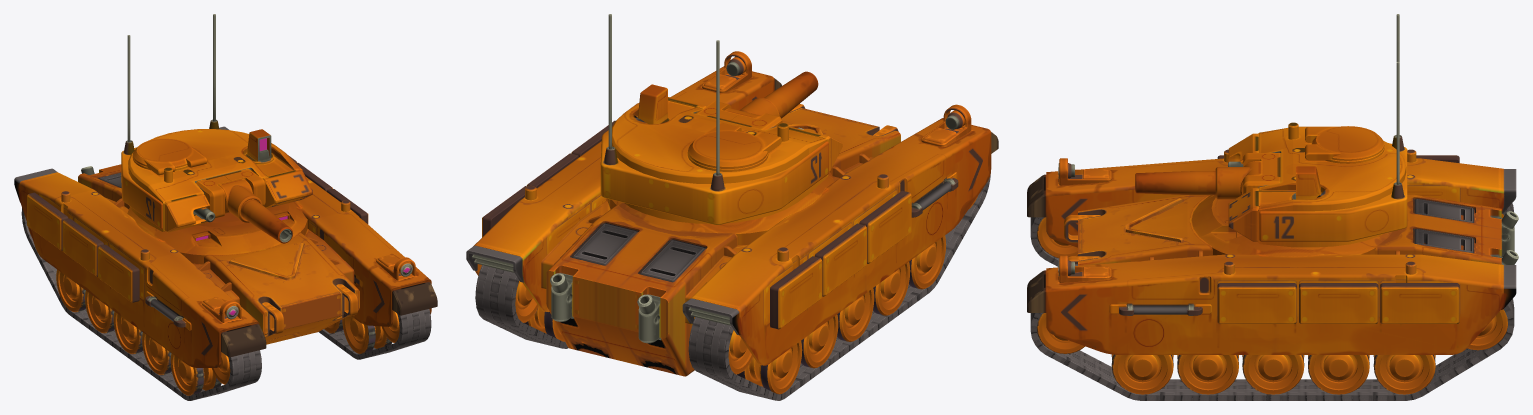
The model's file is light-tank4-bake0.fbx.
The picture shows the model from 3 angles, left to right: view 1: azimuth 30°, elevation 25°; view 2: azimuth 150°, elevation 25°; view 3: azimuth 270°, elevation 25°; orthographic projection. The views are drawn at different scales.
Parts seen in each view (by area): view 1: hull, turret, Cube.045, Cube.016, lp.001, lp.005, barrel, gun-base, lp.012, lp.003, lp.011, lp.002 (+2 smaller); view 2: hull, turret, Cube.045, Cube.016, lp.012, lp.011, lp.003, lp.001, lp.002, barrel, visor, lp.014 (+5 smaller); view 3: hull, turret, Cube.016, lp.005, lp.007, lp.009, lp.006, lp.008, barrel, gun-base, lp.010, visor (+4 smaller).
Boxes of the visible parts, bbox=[...] form: hull: bbox=[14, 126, 437, 367]; turret: bbox=[121, 119, 312, 232]; Cube.045: bbox=[21, 208, 261, 400]; Cube.016: bbox=[319, 309, 431, 359]; lp.001: bbox=[170, 353, 221, 395]; lp.005: bbox=[342, 316, 392, 353]; barrel: bbox=[240, 199, 292, 243]; gun-base: bbox=[218, 178, 262, 222]; lp.012: bbox=[56, 269, 85, 312]; lp.003: bbox=[113, 311, 143, 354]; lp.011: bbox=[85, 291, 114, 333]; lp.002: bbox=[142, 332, 171, 375]; hull: bbox=[466, 51, 998, 376]; turret: bbox=[600, 97, 842, 224]; Cube.045: bbox=[688, 173, 990, 400]; Cube.016: bbox=[475, 265, 568, 348]; lp.012: bbox=[737, 341, 802, 394]; lp.011: bbox=[801, 314, 838, 368]; lp.003: bbox=[837, 288, 874, 341]; lp.001: bbox=[909, 235, 946, 289]; lp.002: bbox=[873, 262, 910, 315]; barrel: bbox=[764, 71, 818, 118]; visor: bbox=[637, 84, 669, 124]; lp.014: bbox=[728, 330, 753, 374]; hull: bbox=[1027, 149, 1518, 354]; turret: bbox=[1228, 122, 1407, 247]; Cube.016: bbox=[1030, 299, 1514, 400]; lp.005: bbox=[1111, 354, 1173, 394]; lp.007: bbox=[1242, 355, 1304, 394]; lp.009: bbox=[1373, 355, 1435, 394]; lp.006: bbox=[1177, 355, 1238, 394]; lp.008: bbox=[1308, 355, 1369, 394]; barrel: bbox=[1135, 171, 1215, 195]; gun-base: bbox=[1215, 161, 1261, 199]; lp.010: bbox=[1467, 309, 1507, 350]; visor: bbox=[1291, 166, 1321, 199].
Bounding box in the file's own units: 0.5584 × 0.6023 × 0.8744.
